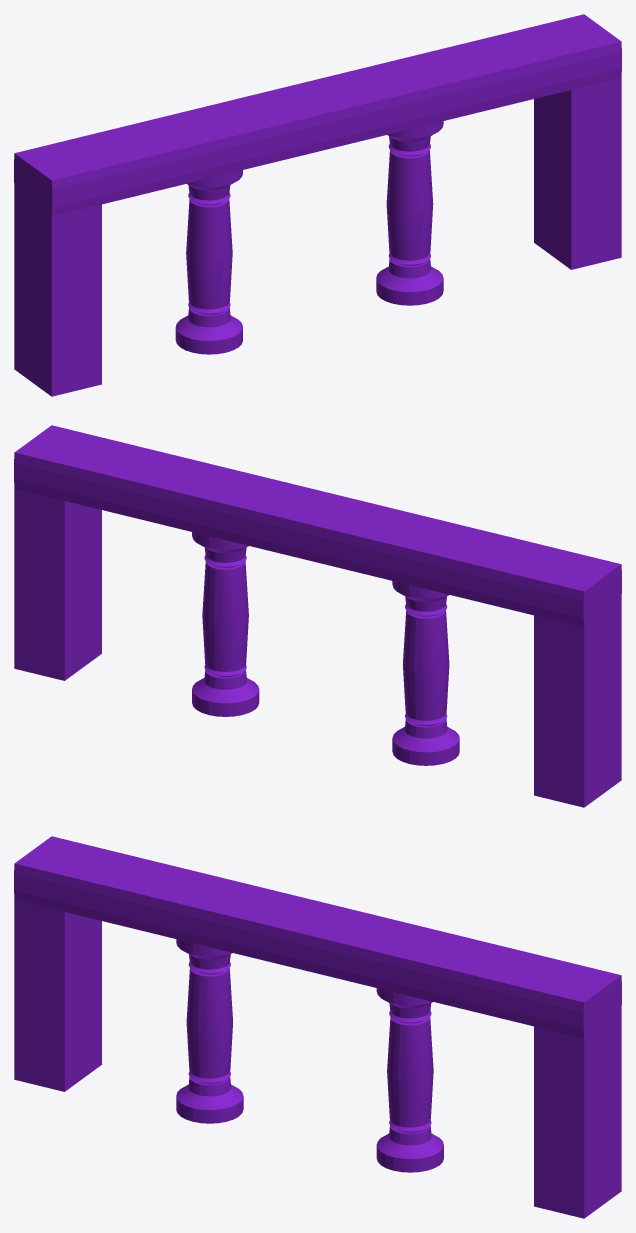
File: Unity HD Render Pipeline (Metallic Standard).fbx
3 renders of one model, top to bottom at view 1: azimuth 30°, elevation 25°; view 2: azimuth 150°, elevation 25°; view 3: azimuth 330°, elevation 25°, orthographic.
Visible parts, largest first — view 1: Barrier; view 2: Barrier; view 3: Barrier.
Boxes of the visible parts, x1,y1,x2,y2 form: Barrier: (14,14,621,396); Barrier: (14,425,621,807); Barrier: (14,836,621,1218).
Bounding box in the file's own units: 2 × 0.727 × 0.2325.
